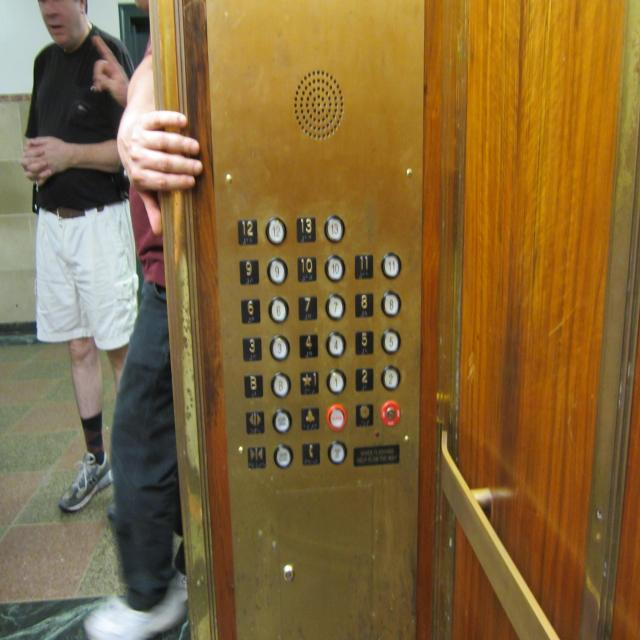1: (325, 369, 347, 394)
10: (325, 254, 346, 284), (296, 254, 316, 283)
11: (352, 252, 374, 280), (380, 252, 401, 279)
12: (264, 215, 288, 245), (236, 218, 258, 245)
13: (322, 213, 346, 244), (296, 215, 316, 244)
2: (380, 363, 402, 392), (354, 366, 374, 392)
3: (268, 333, 290, 362), (241, 336, 263, 362)
4: (325, 331, 347, 359), (298, 333, 320, 359)
5: (352, 329, 374, 357), (381, 327, 402, 356)
6: (238, 297, 262, 325), (267, 295, 289, 324)
7: (296, 295, 318, 321), (325, 293, 345, 321)
8: (380, 290, 402, 317), (354, 292, 374, 318)
9: (238, 258, 259, 288), (266, 257, 288, 285)
B: (269, 370, 291, 398), (243, 373, 264, 399)
alarm: (300, 406, 320, 431)
call: (302, 443, 320, 465)
close: (246, 444, 267, 470)
keyhole: (379, 399, 402, 427)
open: (243, 408, 266, 436)
s1: (299, 370, 320, 396)
stop: (354, 403, 374, 428)
text: (327, 404, 348, 432), (272, 444, 294, 468), (327, 440, 348, 465), (272, 408, 292, 434)
